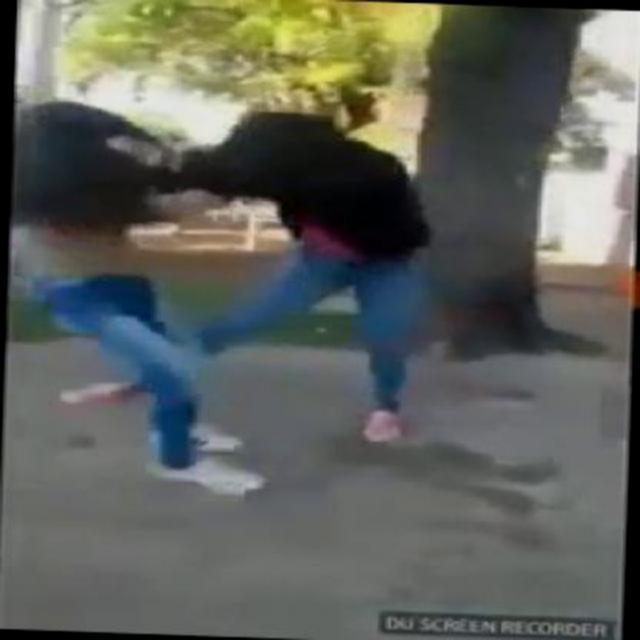fight: (9, 100, 428, 474)
